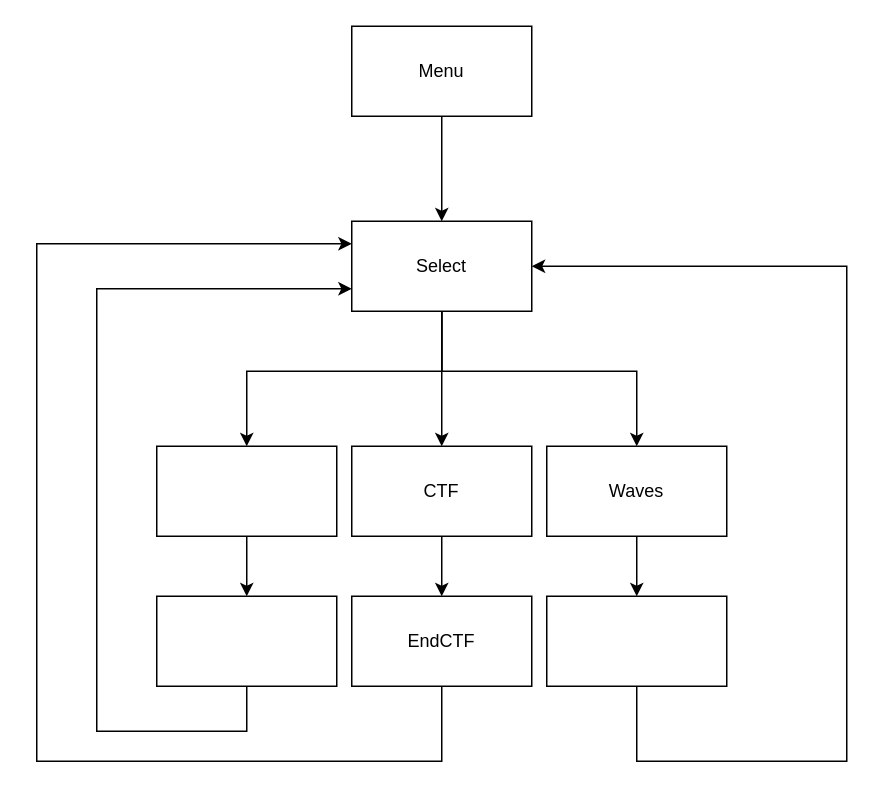
Some shapes in this 885 by 800 pixel diagram are drawn without their labels. The centre of each missing label's shape, as x and y in pixels:
"EndFFA" belongs at point 246,640.
"EndWaves" belongs at point 636,640.
"FFA" belongs at point 246,490.
